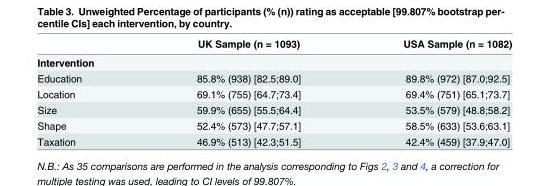table: (36, 37, 511, 146)
table column: (144, 37, 351, 146), (351, 37, 511, 146), (36, 37, 144, 146)
table column header: (36, 37, 511, 52)
table projected row header: (36, 52, 511, 70)
table row: (36, 52, 511, 70), (36, 85, 511, 101), (36, 101, 511, 117), (36, 117, 511, 133), (36, 37, 511, 52), (36, 70, 511, 85), (36, 133, 511, 146)
